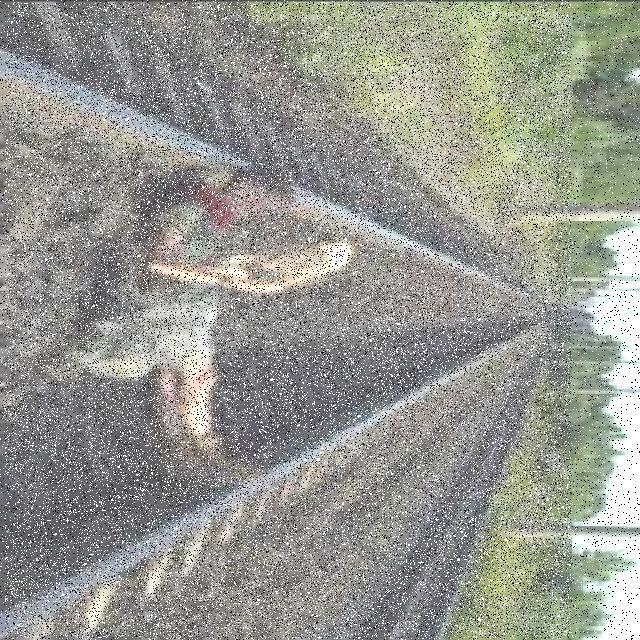danger: (71, 163, 377, 502)
rail: (6, 3, 571, 640)
